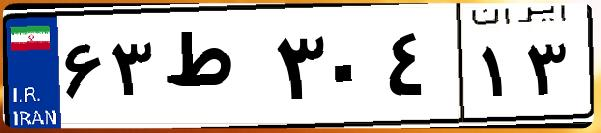0: (330, 28, 385, 110)
1: (475, 38, 525, 113)
3: (270, 28, 330, 110), (525, 38, 570, 115), (110, 28, 158, 98)
4: (385, 28, 445, 110)
6: (57, 26, 110, 100)
ط: (158, 20, 270, 120)
